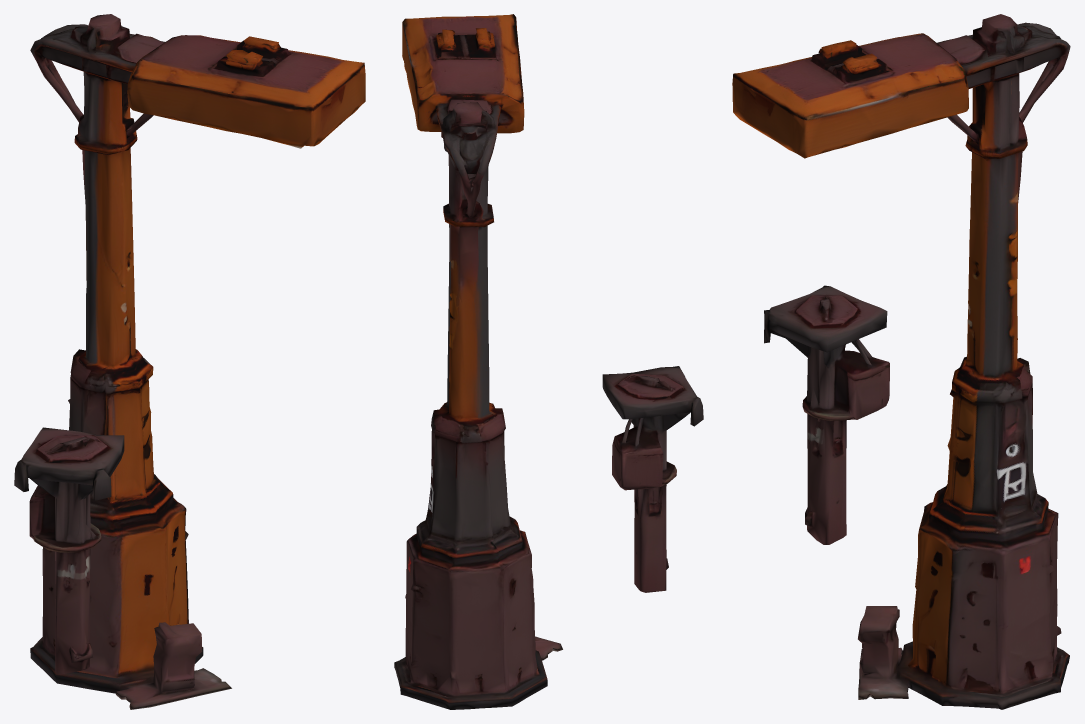
The model's file is 08_street_lamp.glb.
3 views of the same model, side by side, from view 1: azimuth 30°, elevation 25°; view 2: azimuth 150°, elevation 25°; view 3: azimuth 270°, elevation 25° (orthographic). The views are drawn at different scales.
Visible parts, largest first — view 1: tripo_node_b369cdad-33bf-4cea-916a-42822d021d60; view 2: tripo_node_b369cdad-33bf-4cea-916a-42822d021d60; view 3: tripo_node_b369cdad-33bf-4cea-916a-42822d021d60.
Boxes of the visible parts, x1,y1,x2,y2 form: tripo_node_b369cdad-33bf-4cea-916a-42822d021d60: (14, 14, 365, 709); tripo_node_b369cdad-33bf-4cea-916a-42822d021d60: (394, 14, 703, 709); tripo_node_b369cdad-33bf-4cea-916a-42822d021d60: (732, 14, 1070, 709).
Bounding box in the file's own units: 1.64 × 3 × 1.39.
1 material, 1 textured.
